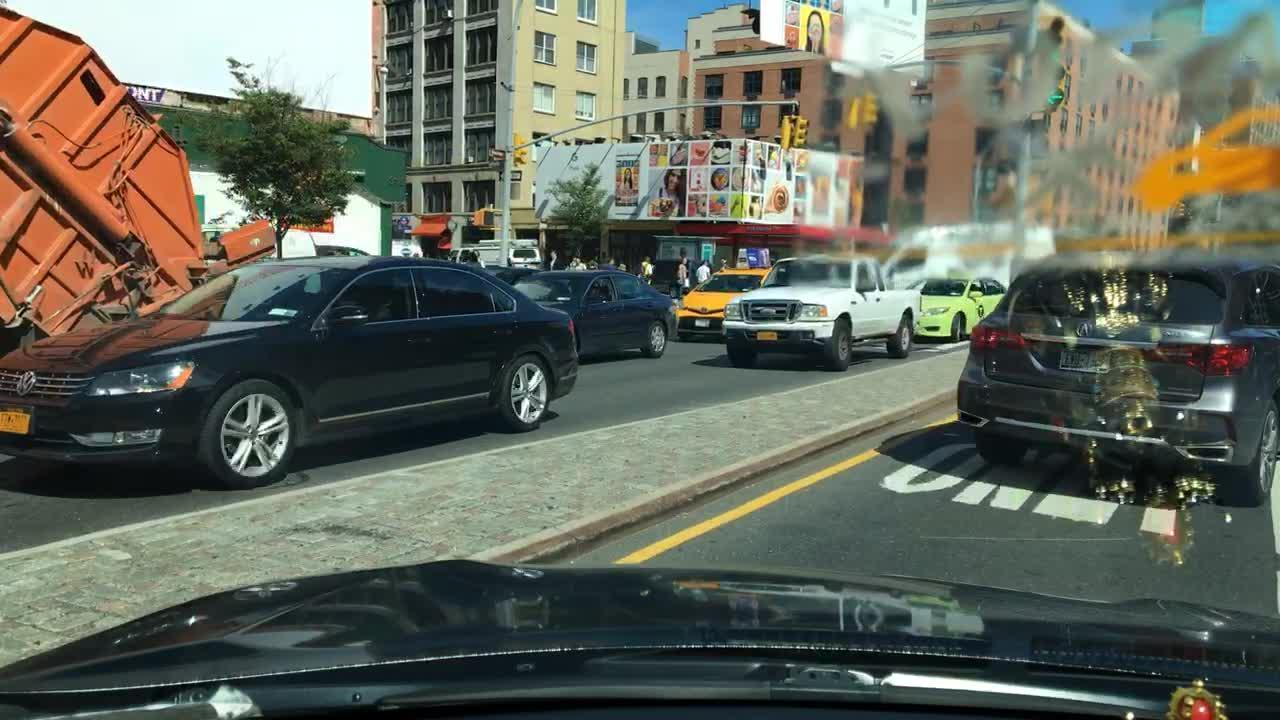acura: (1067, 311, 1110, 342)
